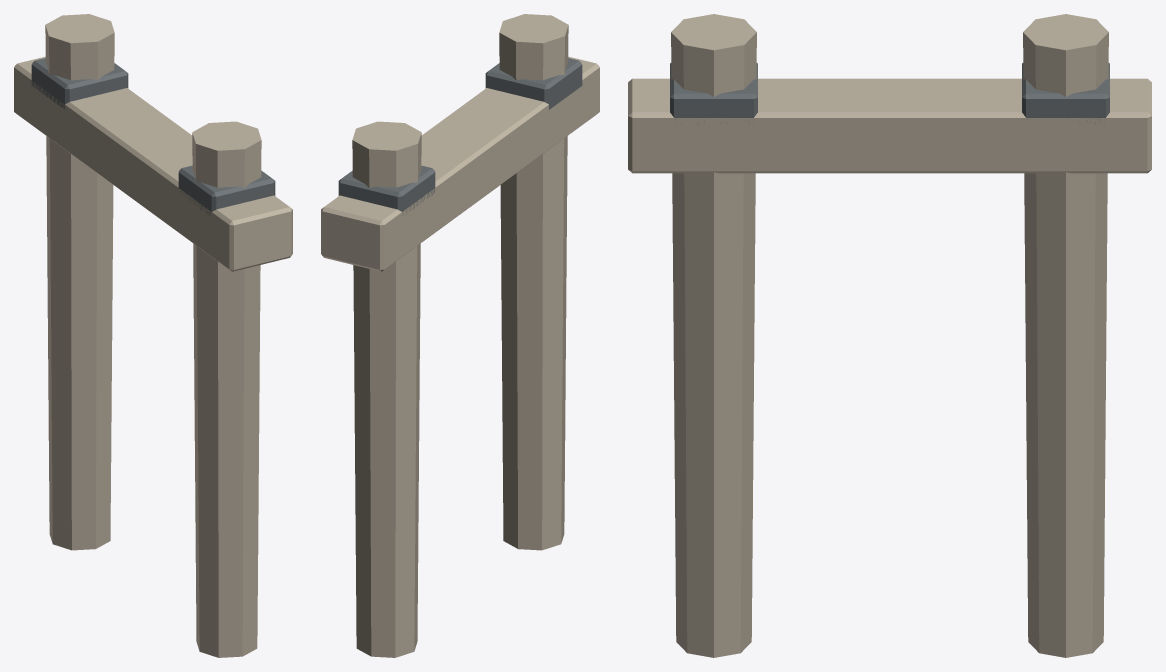
File: wood_support.glb
3 views of the same model, side by side, from view 1: azimuth 30°, elevation 25°; view 2: azimuth 150°, elevation 25°; view 3: azimuth 270°, elevation 25° (orthographic). The views are drawn at different scales.
Visible parts, largest first — view 1: wood_support; view 2: wood_support; view 3: wood_support.
Boxes of the visible parts, x1,y1,x2,y2 form: wood_support: (14, 14, 292, 657); wood_support: (321, 14, 599, 657); wood_support: (628, 14, 1151, 657).
Size of the model in its own units: 0.17 by 1.3 by 1.01.
